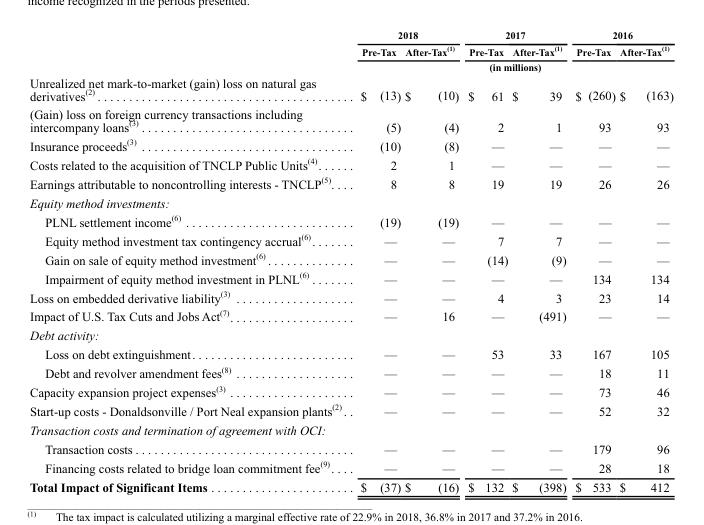table: (29, 29, 672, 493)
table column: (29, 29, 350, 493), (509, 29, 570, 493), (402, 29, 462, 493), (616, 29, 672, 493), (350, 29, 402, 493), (462, 29, 509, 493), (570, 29, 616, 493)
table column header: (29, 29, 672, 73)
table projected row header: (29, 325, 672, 344), (29, 420, 672, 439), (29, 193, 672, 211)
table row: (29, 73, 672, 104), (29, 104, 672, 135), (29, 173, 672, 193), (29, 305, 672, 325), (29, 400, 672, 420), (29, 457, 672, 477), (29, 135, 672, 154), (29, 154, 672, 173), (29, 211, 672, 230), (29, 230, 672, 249), (29, 267, 672, 286), (29, 286, 672, 305), (29, 325, 672, 344), (29, 362, 672, 381), (29, 381, 672, 400), (29, 420, 672, 439), (29, 193, 672, 211), (29, 249, 672, 267), (29, 344, 672, 362), (29, 439, 672, 457), (29, 42, 672, 58), (29, 477, 672, 493), (29, 58, 672, 73), (29, 29, 672, 42)
table spanning cell: (350, 58, 672, 73), (350, 29, 462, 42), (462, 29, 570, 42), (570, 29, 672, 42)
